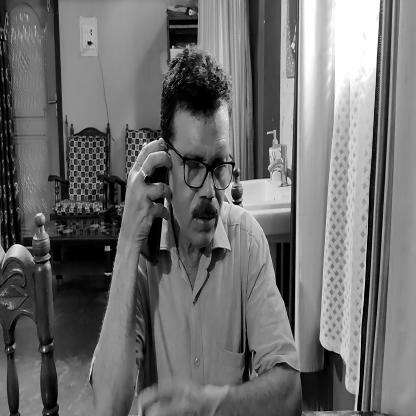Normal: (158, 44, 237, 261)
